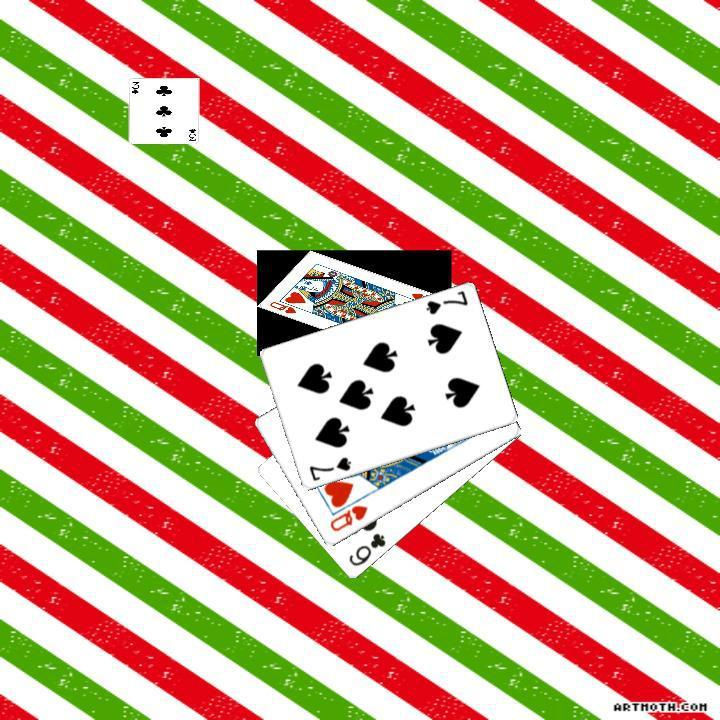6: (344, 529, 388, 569)
7: (305, 453, 353, 484), (421, 287, 470, 317)
Q: (325, 501, 370, 534)
